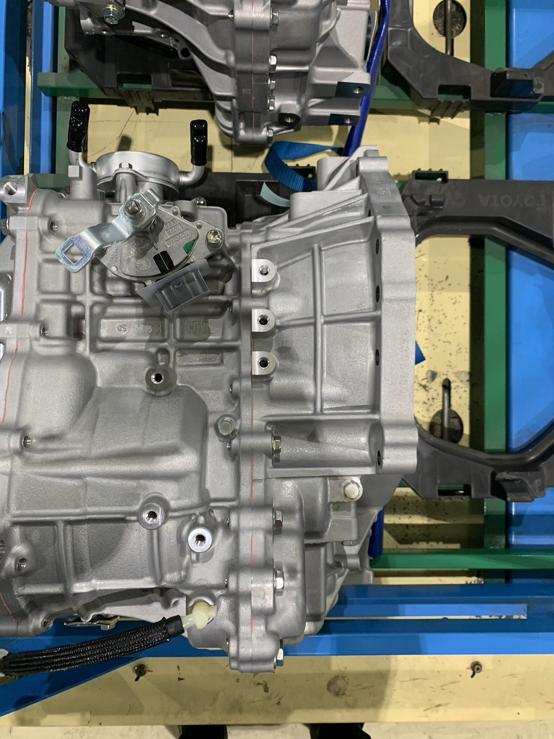gearbox_type1: (0, 143, 416, 672)
gearbox_type1_FP1: (250, 257, 281, 289)
gearbox_type1_FP2: (249, 307, 278, 334)
gearbox_type1_FP3: (1, 169, 33, 206)
